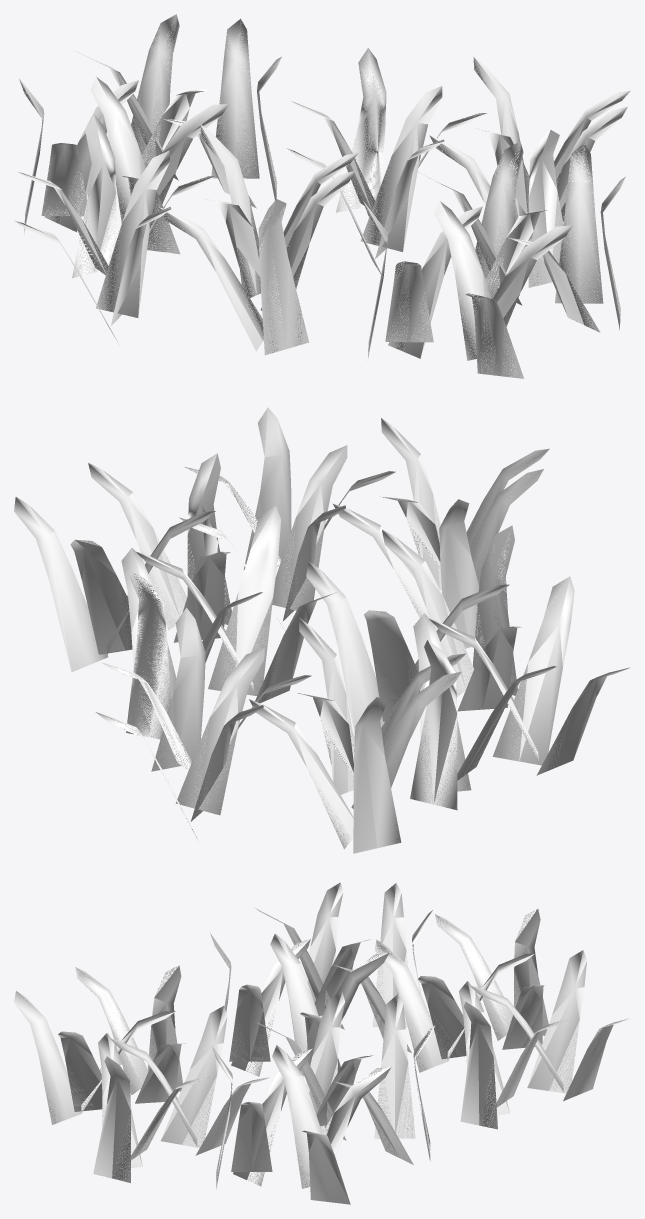
File: Grass.fbx
The picture shows the model from 3 angles, top to bottom: view 1: azimuth 30°, elevation 25°; view 2: azimuth 150°, elevation 25°; view 3: azimuth 270°, elevation 25°; orthographic projection. The views are drawn at different scales.
Parts seen in each view (by area): view 1: grass; view 2: grass; view 3: grass.
Part boxes in pixels (x1=…): grass: x1=14, y1=14, x2=630, y2=378; grass: x1=14, y1=407, x2=629, y2=853; grass: x1=14, y1=882, x2=629, y2=1204.
Size of the model in its own units: 152 by 39.28 by 159.
1 material, 1 textured.
